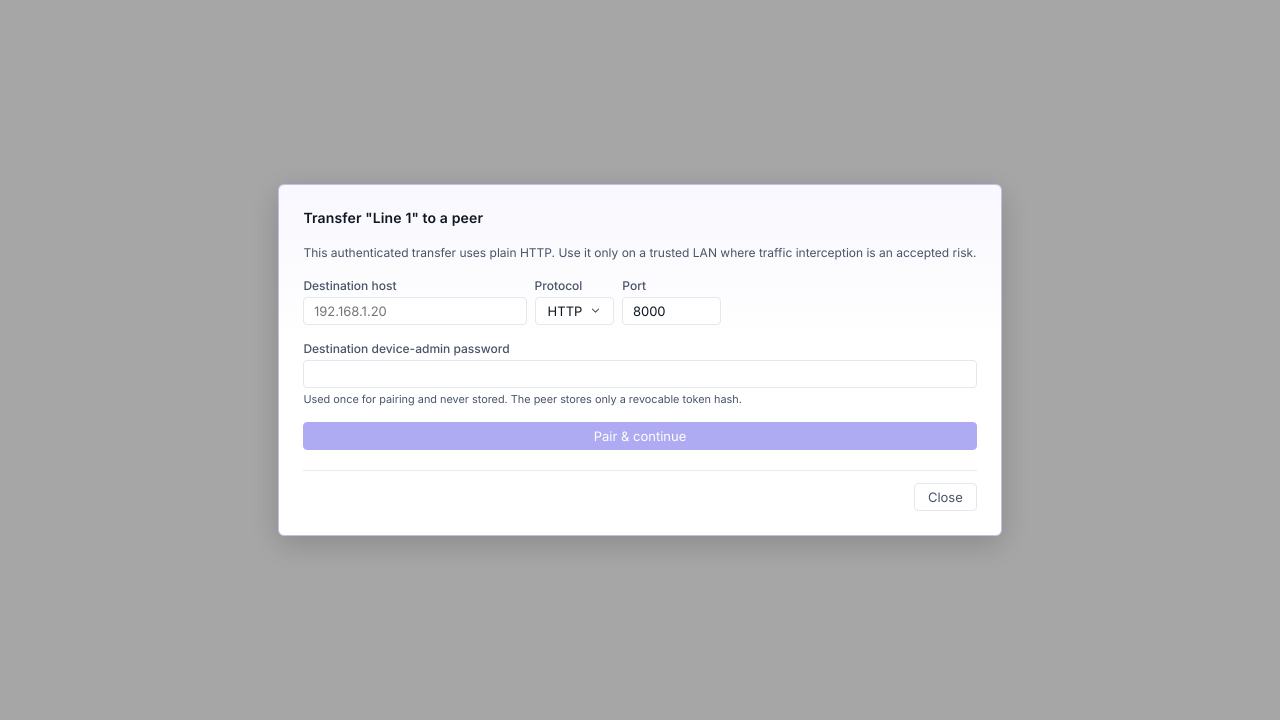
Test: offers "forget pinned certificate" when a mid-transfer pin mismatch arrives on transfer.message
This screenshot has width=1280, height=720.
Step 1. Type "10.0.0.4" into the field with placeholder "192.168.1.20" → {"x": 415, "y": 311}, box top-left (303, 297), bottom-right (527, 325)
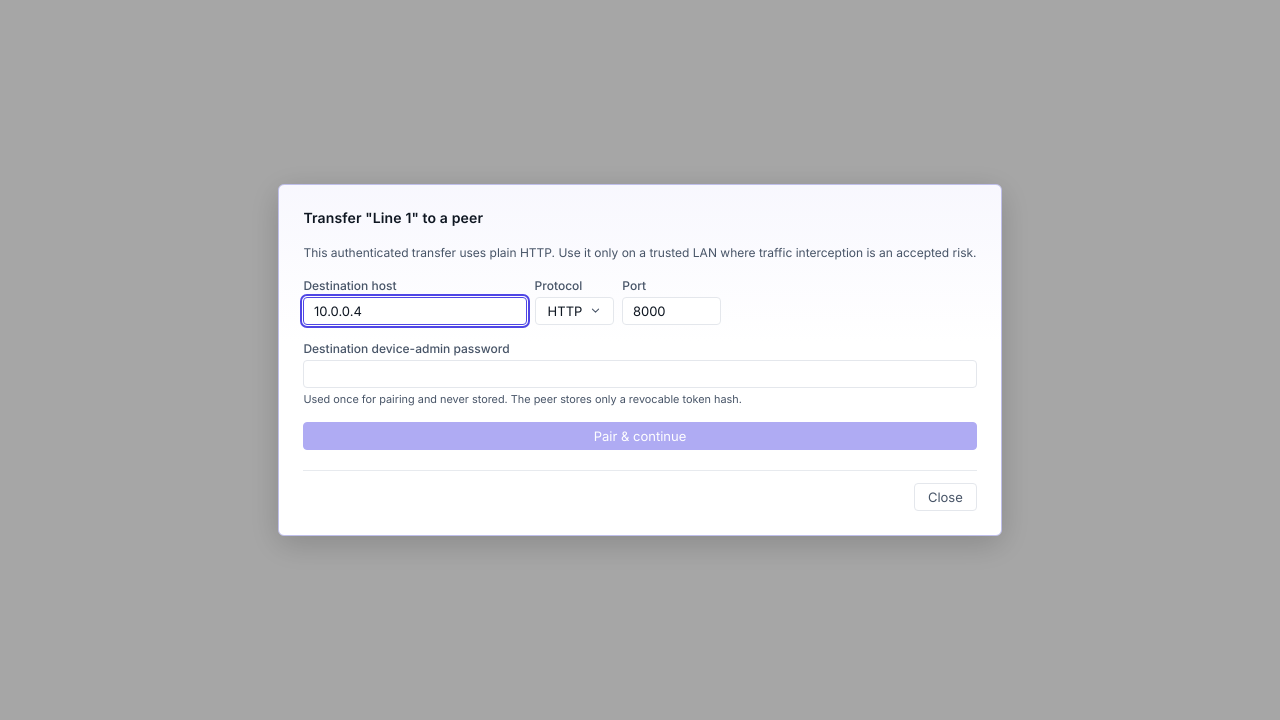
Step 2. Type "secret" into the password field labelled "device-admin password" → {"x": 640, "y": 374}, box top-left (303, 360), bottom-right (977, 388)
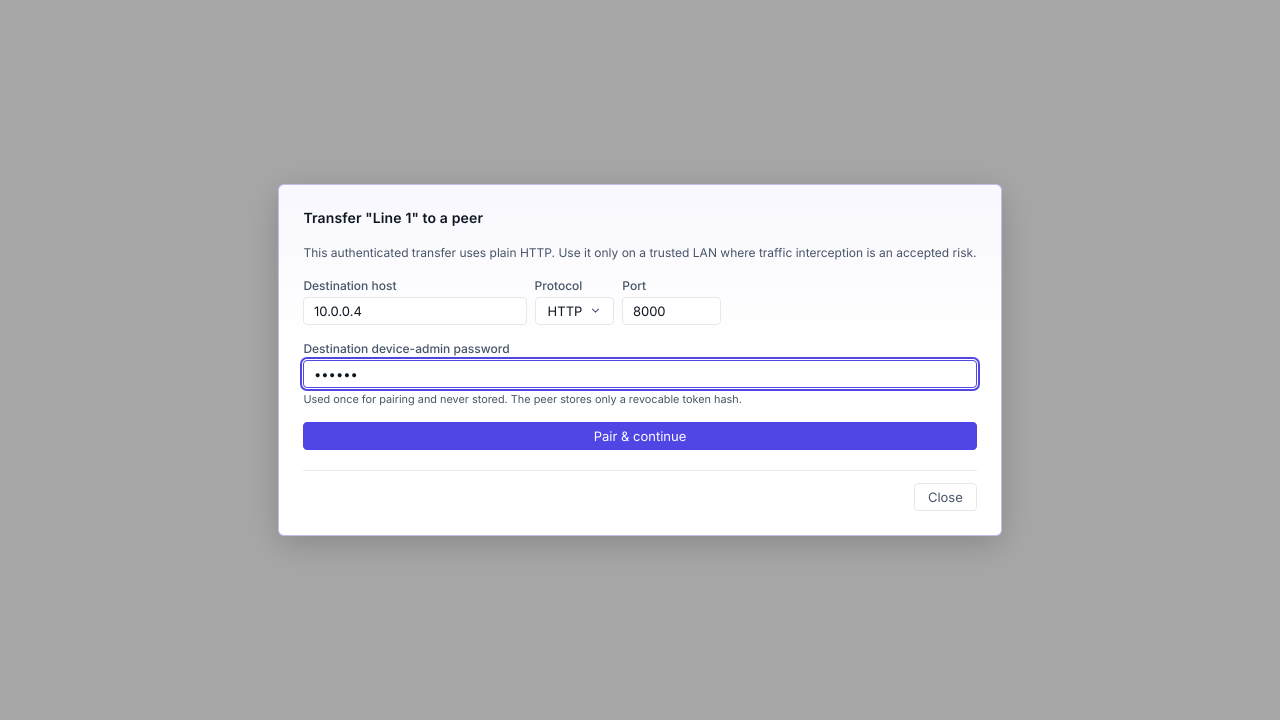
Step 3. Click the button "Pair & continue" → {"x": 640, "y": 436}, box top-left (303, 422), bottom-right (977, 450)
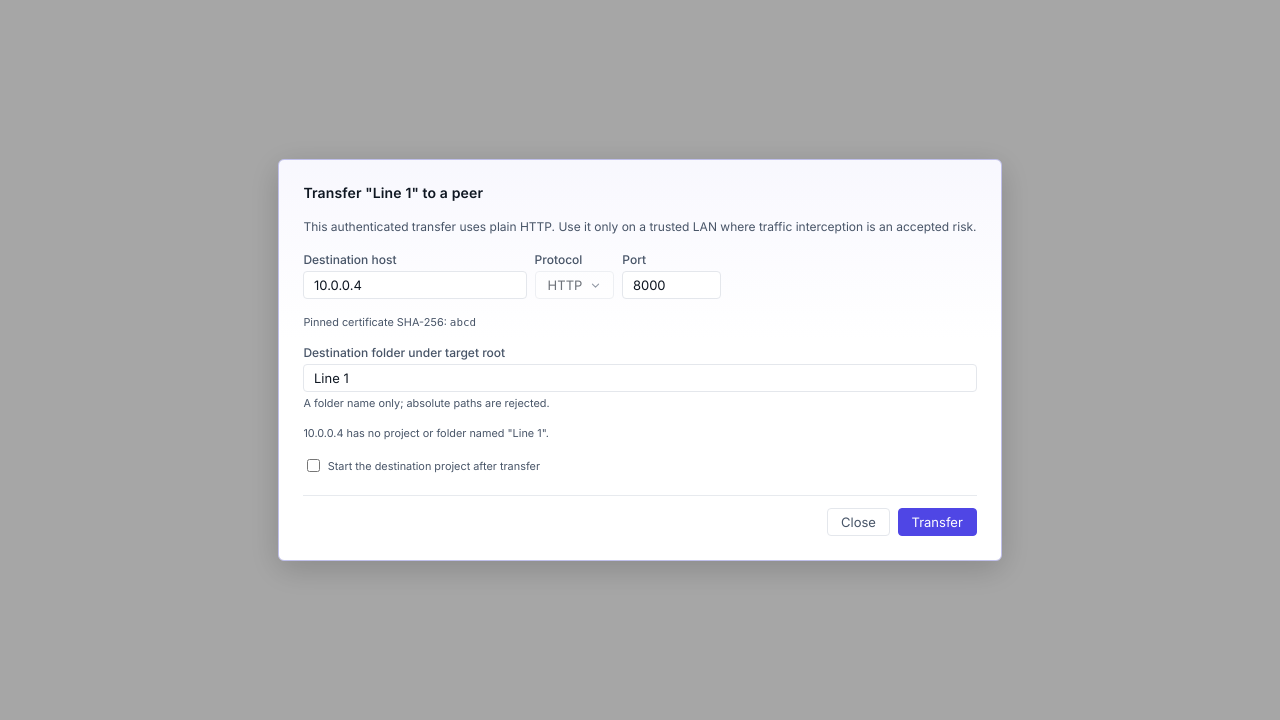
Step 4. Type "landing" into the field labelled "Destination folder" → {"x": 640, "y": 378}, box top-left (303, 364), bottom-right (977, 392)
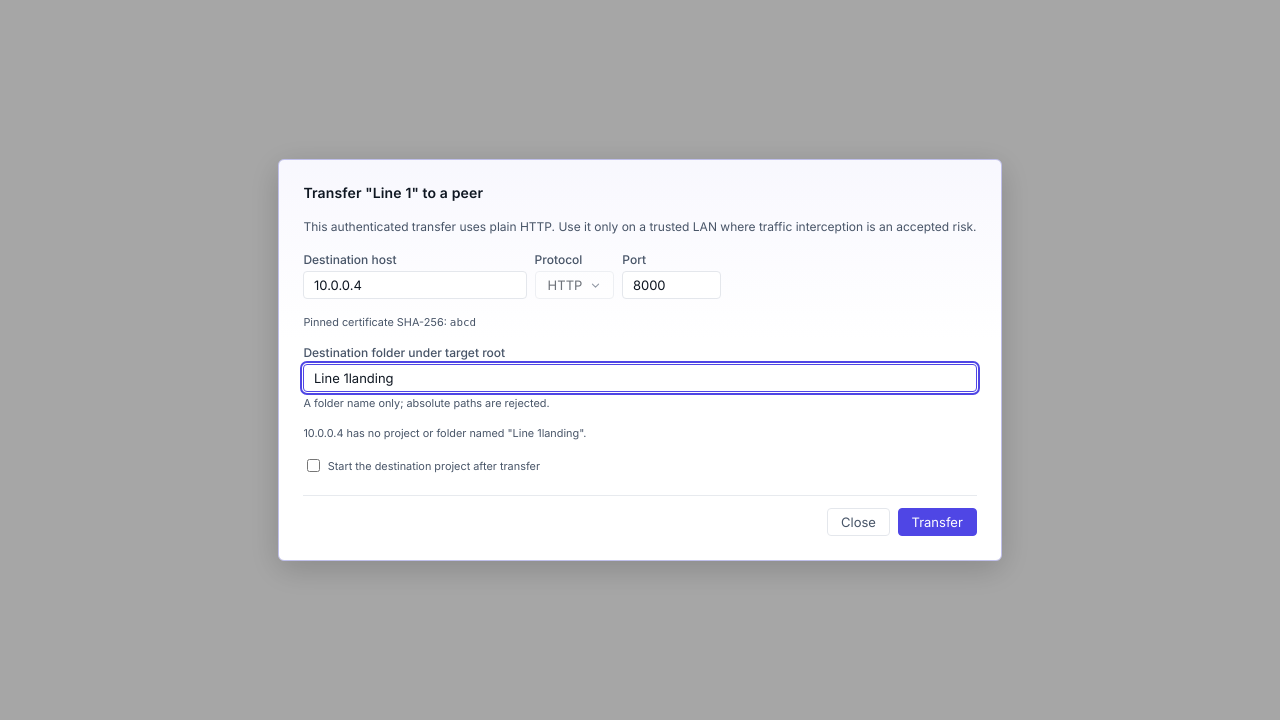
Step 5. Click the button "Transfer" → {"x": 937, "y": 522}, box top-left (898, 508), bottom-right (977, 536)
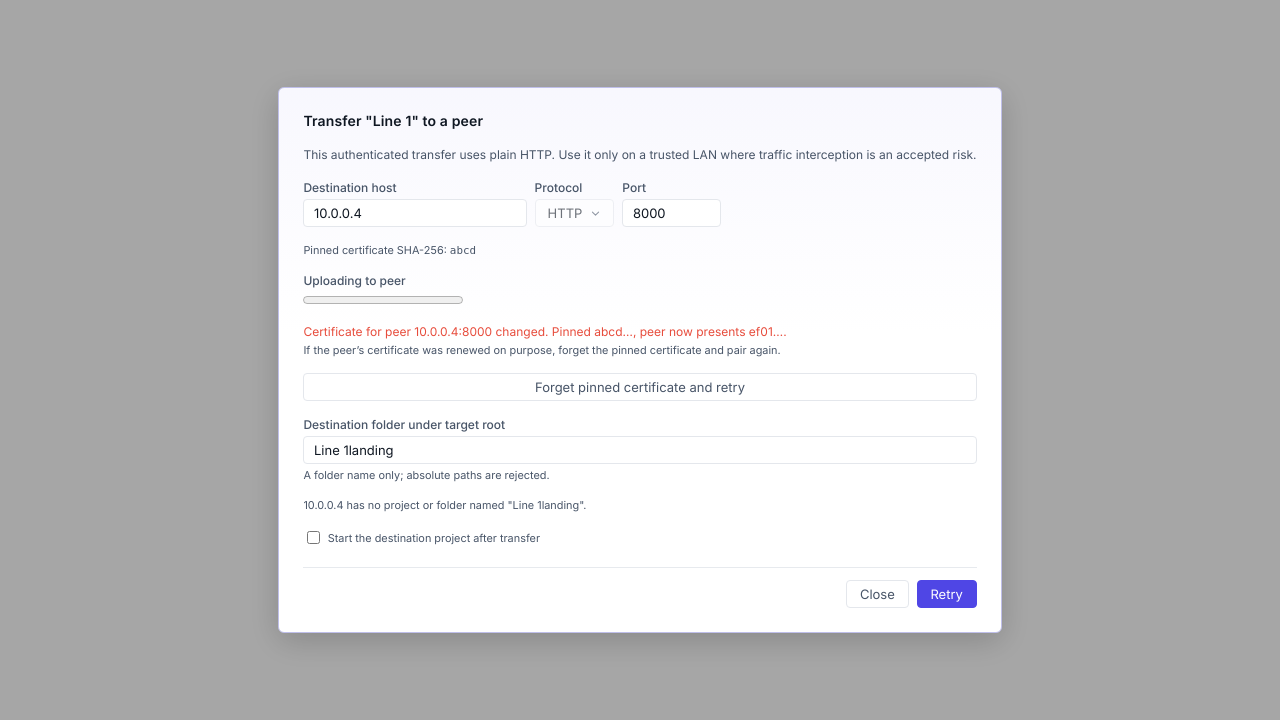
Expected: the button "Forget pinned certificate and retry" is shown, top-left (303, 373), bottom-right (977, 401)
